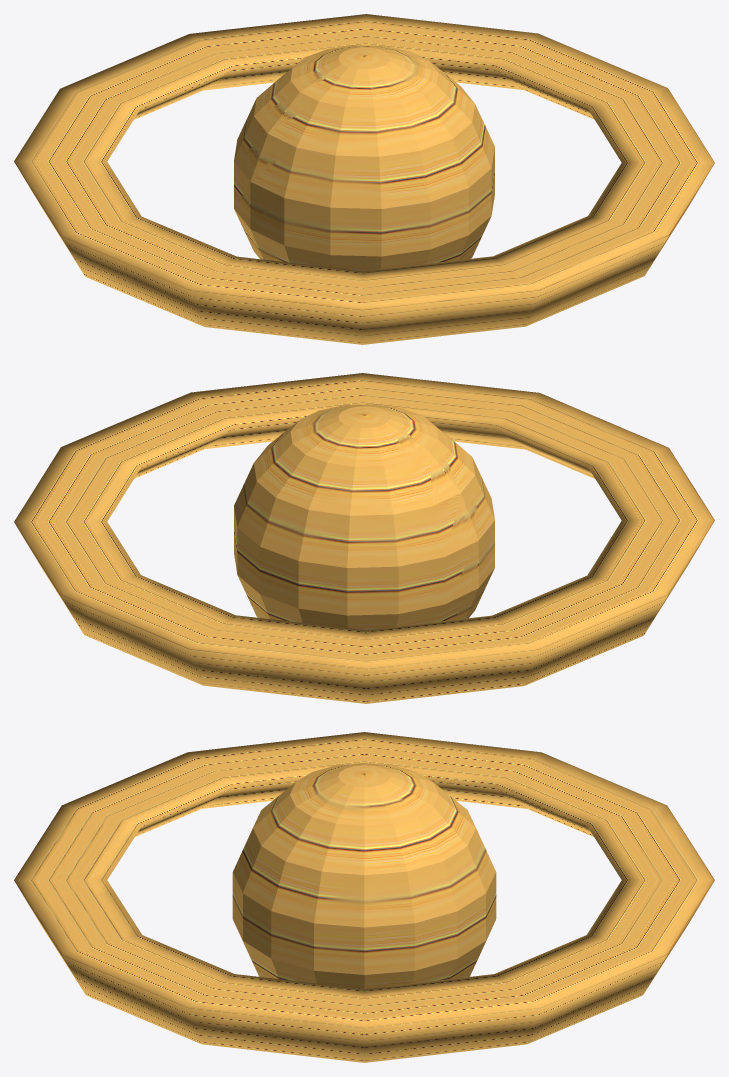
The model's file is Planet.glb.
The picture shows the model from 3 angles, top to bottom: view 1: azimuth 30°, elevation 25°; view 2: azimuth 150°, elevation 25°; view 3: azimuth 270°, elevation 25°; orthographic projection.
Visible parts, largest first — view 1: BezierCircle, Sphere; view 2: BezierCircle, Sphere; view 3: BezierCircle, Sphere.
Boxes of the visible parts, box(x1,y1,x2,y2) form: BezierCircle: box(14, 14, 714, 344); Sphere: box(234, 45, 494, 270); BezierCircle: box(14, 373, 714, 703); Sphere: box(234, 404, 494, 629); BezierCircle: box(14, 732, 714, 1062); Sphere: box(232, 763, 496, 988).
Size of the model in its own units: 10.26 by 3.93 by 10.26.
Materials: 1 (1 with a texture image).
